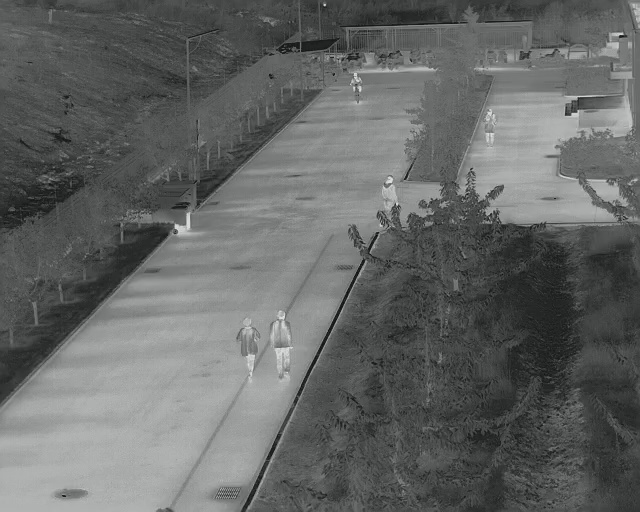NonMotorVehicle: (348, 70, 365, 105)
person: (268, 309, 295, 384), (235, 316, 263, 383), (381, 174, 400, 211), (482, 107, 497, 146)
